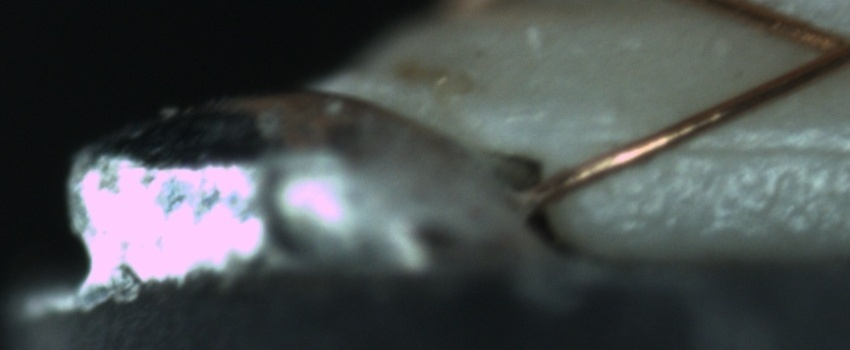CL: (792, 14, 850, 81)
DL: (613, 115, 850, 181)
